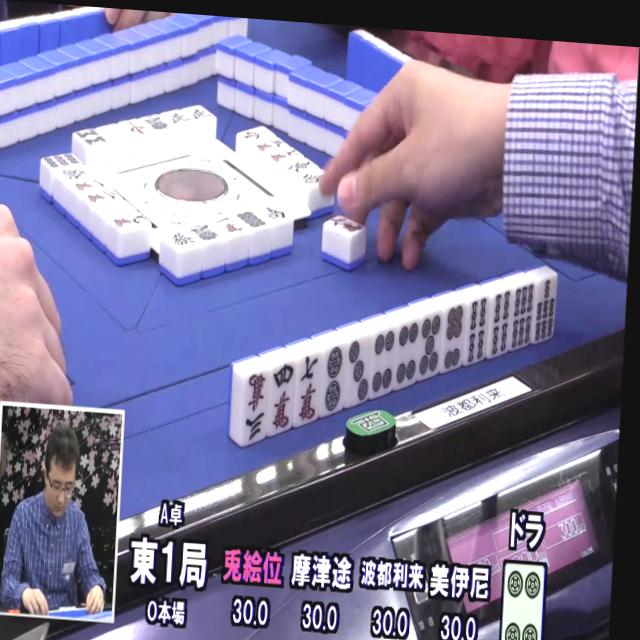m3: (238, 367, 273, 443)
m4: (267, 361, 301, 437)
m7: (293, 351, 325, 428)
s4: (462, 295, 493, 368), (487, 290, 516, 362)
s6: (507, 283, 537, 354)
s7: (532, 276, 560, 347)
t2: (318, 343, 350, 417)
t3: (340, 336, 373, 407)
t4: (501, 562, 549, 640), (366, 327, 398, 402), (392, 319, 423, 391)
t5: (415, 312, 446, 383)
t6: (437, 302, 469, 375)
